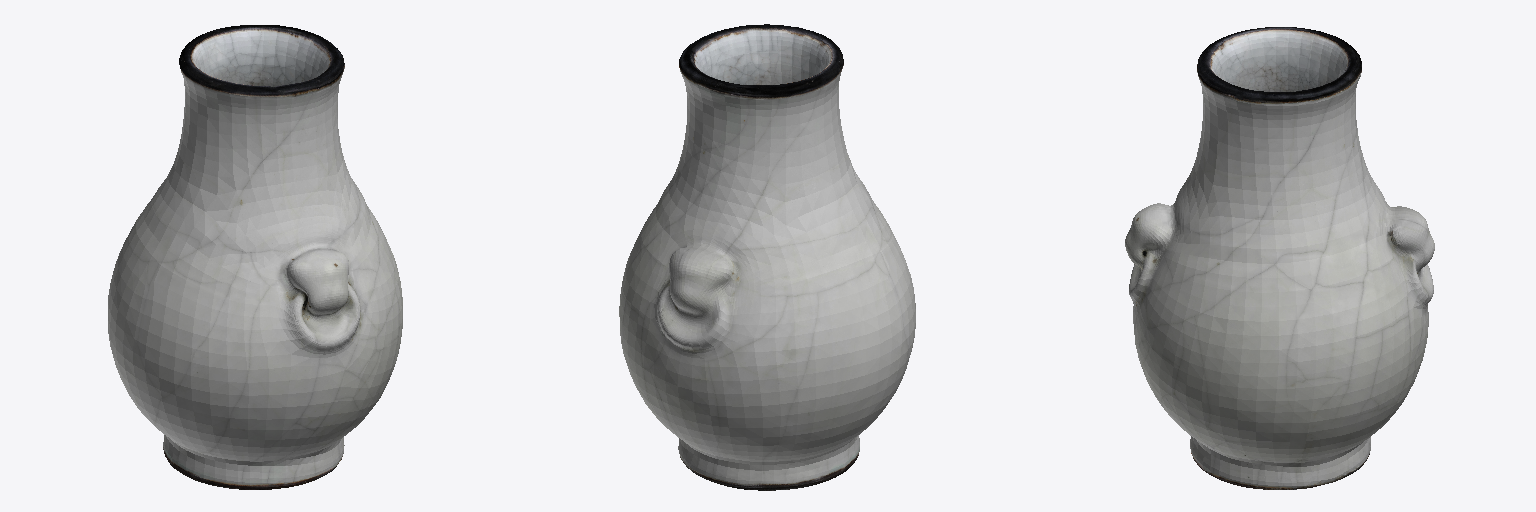
The picture shows the model from 3 angles: view 1: azimuth 30°, elevation 25°; view 2: azimuth 150°, elevation 25°; view 3: azimuth 270°, elevation 25°; orthographic projection.
Parts seen in each view (by area): view 1: ____004; view 2: ____004; view 3: ____004.
Part boxes in pixels (bbox=[...]): ____004: bbox=[108, 25, 402, 489]; ____004: bbox=[619, 24, 915, 490]; ____004: bbox=[1125, 27, 1434, 489].
Size of the model in its own units: 0.9992 by 1.49 by 1.05.
Materials: 4 (4 with a texture image).